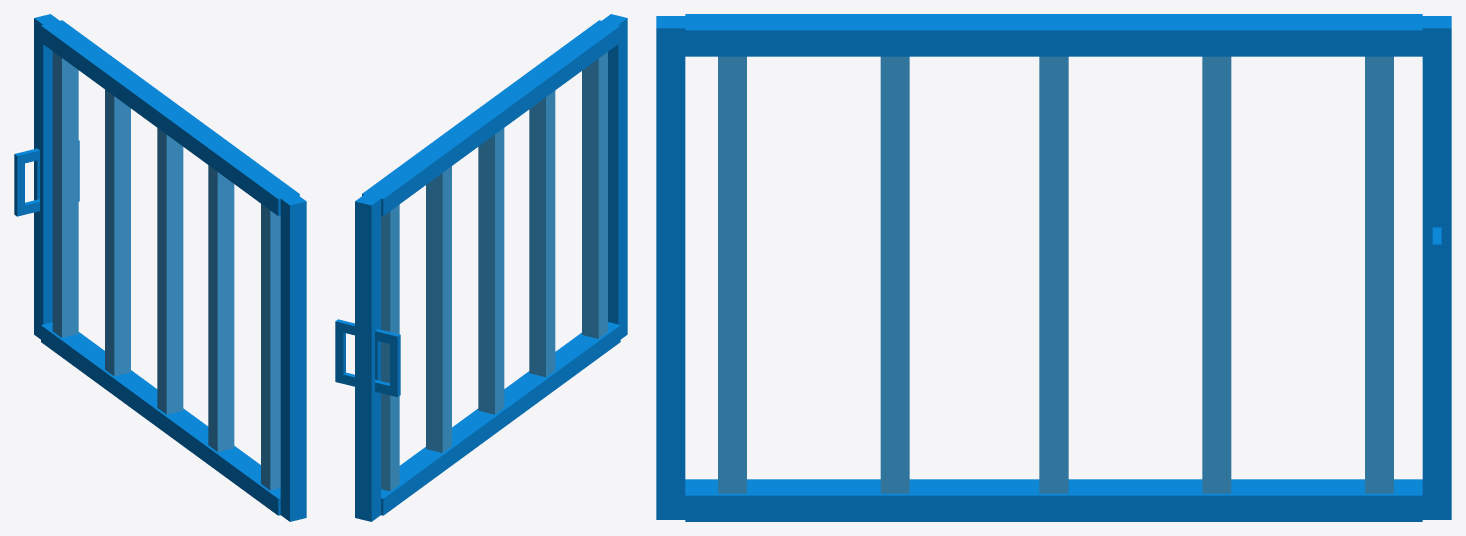
The model's file is SM_Small_Gate.fbx.
3 renders of one model, left to right at view 1: azimuth 30°, elevation 25°; view 2: azimuth 150°, elevation 25°; view 3: azimuth 270°, elevation 25°, orthographic. The views are drawn at different scales.
Parts seen in each view (by area): view 1: Smaill_Gate_mash; view 2: Smaill_Gate_mash; view 3: Smaill_Gate_mash.
Part boxes in pixels (<box>): Smaill_Gate_mash: <box>14,14,306,521</box>; Smaill_Gate_mash: <box>335,14,627,521</box>; Smaill_Gate_mash: <box>656,14,1451,521</box>.
Size of the model in its own units: 0.2314 by 1.12 by 1.64.
